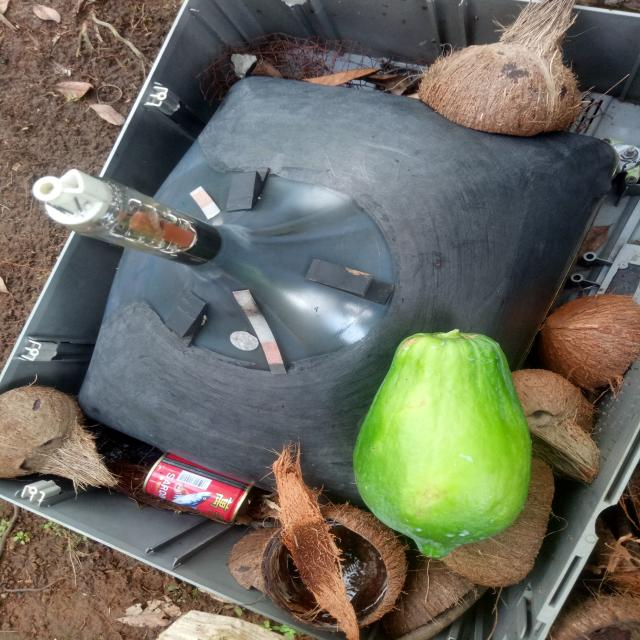Pepaya unrippen: (344, 325, 538, 563)
